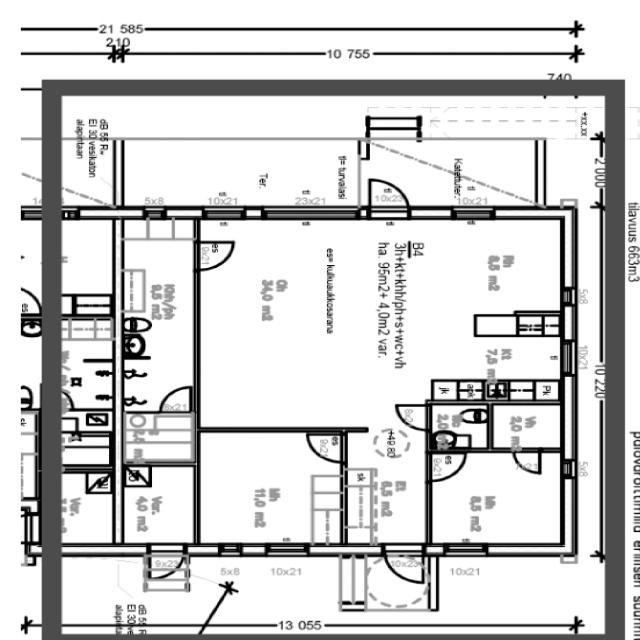door: (144, 546, 186, 585), (383, 548, 425, 585), (367, 176, 411, 209), (306, 431, 345, 463), (195, 240, 233, 272), (429, 452, 464, 481), (158, 386, 194, 414), (511, 450, 542, 476)
window: (263, 204, 363, 220), (200, 204, 252, 220), (447, 204, 498, 220), (262, 542, 311, 558), (558, 340, 578, 378), (442, 542, 489, 558)
zone: (190, 217, 509, 424), (195, 430, 344, 546), (119, 214, 199, 395), (429, 450, 565, 547), (371, 138, 542, 206), (120, 463, 196, 546), (58, 328, 114, 413), (58, 216, 116, 298), (120, 350, 193, 413), (59, 468, 116, 548), (122, 412, 196, 465), (490, 402, 564, 450), (61, 412, 114, 468), (430, 403, 490, 450), (430, 451, 464, 482), (69, 295, 113, 317)
